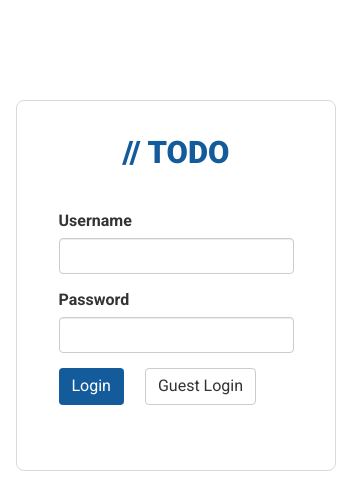
Test case: login invalid user
What coordinates should you click on to do the following:
click the button "Login"
I would click on:
 (91, 386)
Its box is [58,368,124,405].
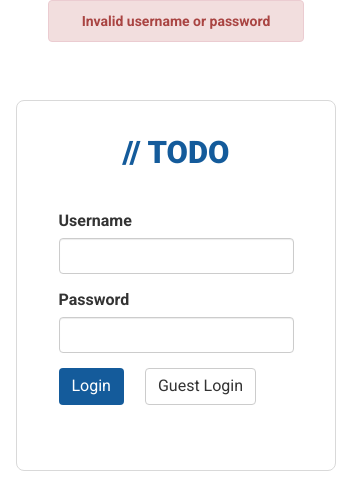
Now the message reads "Invalid username or password", box [82,13,270,29]
